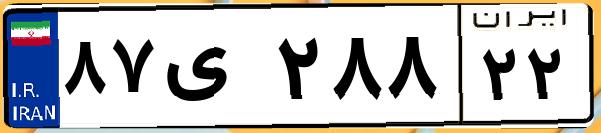2: (270, 28, 330, 110), (475, 38, 525, 113), (525, 38, 570, 115)
7: (110, 28, 158, 98)
8: (385, 28, 445, 110), (330, 28, 385, 110), (57, 26, 110, 100)
ی: (158, 20, 270, 120)
